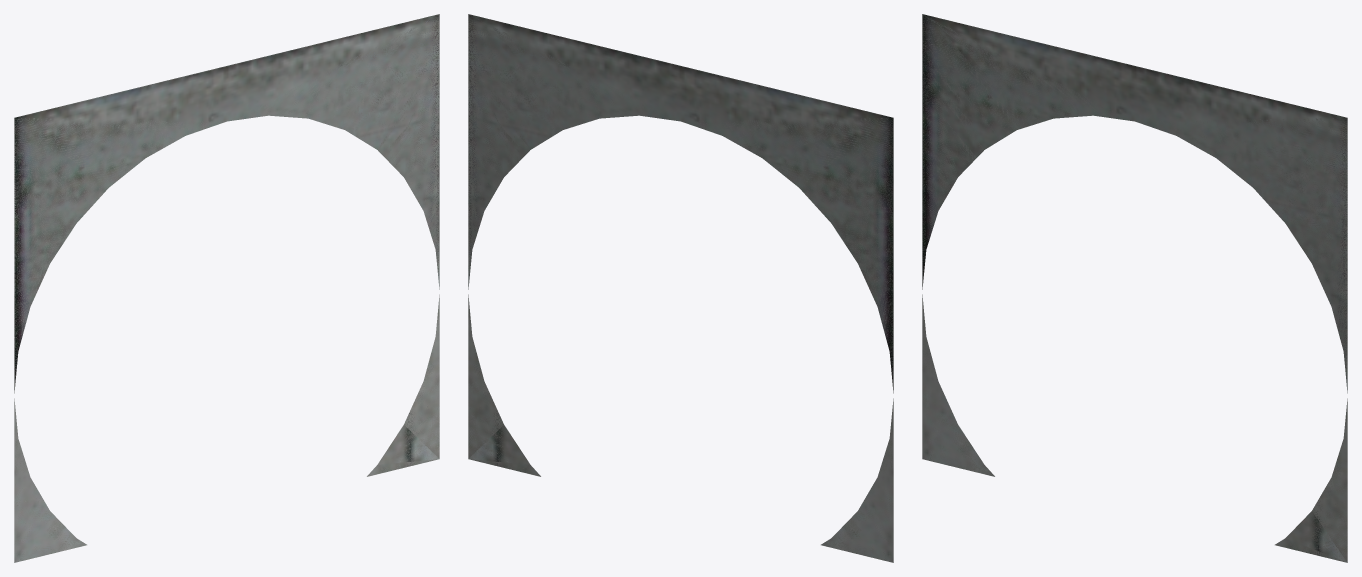
Rendered from door_wall.obj.
The picture shows the model from 3 angles, left to right: view 1: azimuth 30°, elevation 25°; view 2: azimuth 150°, elevation 25°; view 3: azimuth 330°, elevation 25°; orthographic projection.
Visible parts, largest first — view 1: door_wall; view 2: door_wall; view 3: door_wall.
Boxes of the visible parts, x1,y1,x2,y2 form: door_wall: (14,14,439,562); door_wall: (468,14,893,562); door_wall: (922,14,1347,562).
Bounding box in the file's own units: 2 × 2 × 0.
